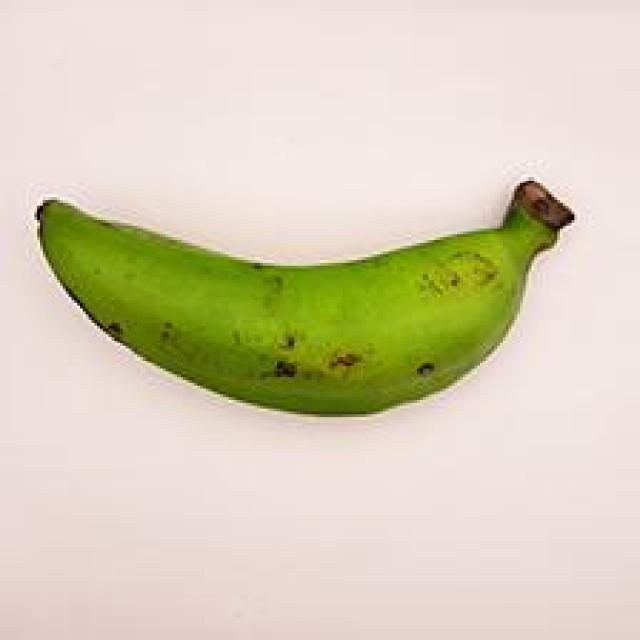Raw: (9, 146, 610, 439)
